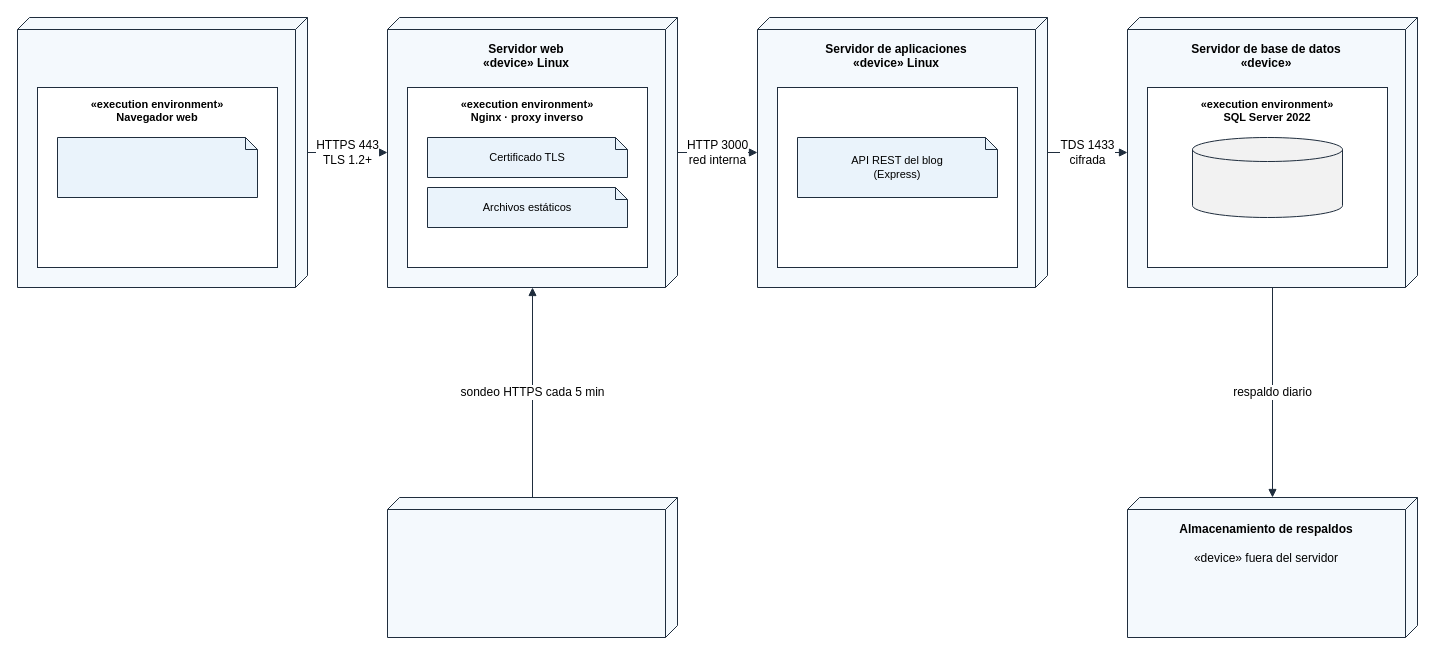
Some shapes in this 1435 by 655 pixel diagram are drawn without their labels. The box of each missing label's shape, as (x1, y1, x2, y2) in pixels:
BlogConservacion- Marina: (1192, 136, 1342, 218)
Dispositivo del usuario «device» PC, laptop o celular: (16, 16, 308, 288)
Servicio de monitoreo «device» sondeo externo: (386, 496, 678, 638)
SPA del blog (HTML, CSS, JS): (56, 136, 258, 198)
«execution environment» Node.js 20 LTS: (776, 86, 1018, 268)
